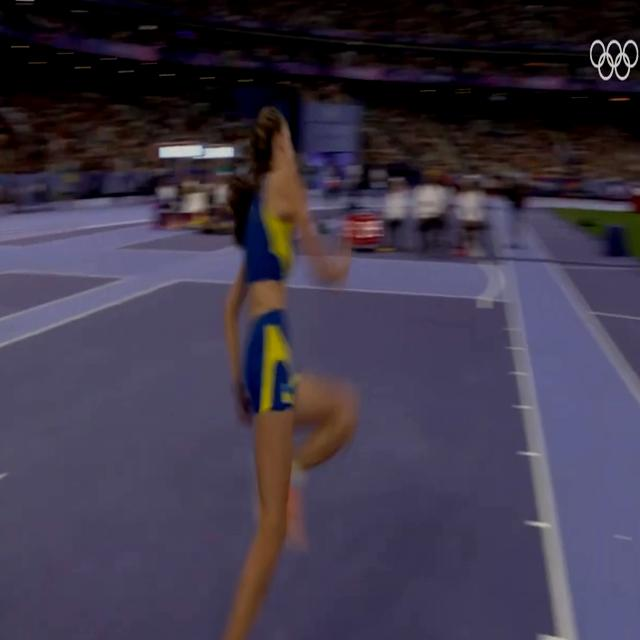run: (215, 107, 364, 640)
